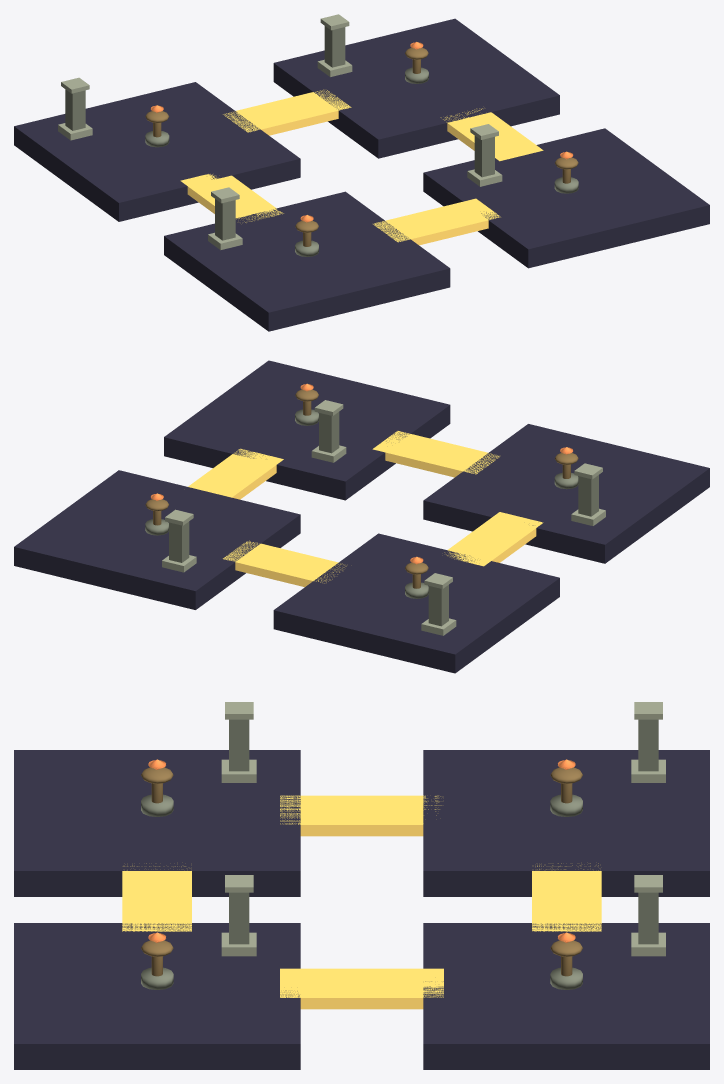
Rendered from hollow_sun_arena.glb.
The picture shows the model from 3 angles, top to bottom: view 1: azimuth 30°, elevation 25°; view 2: azimuth 150°, elevation 25°; view 3: azimuth 270°, elevation 25°; orthographic projection. The views are drawn at different scales.
Parts seen in each view (by area): view 1: floating_platform (×4), connector_x (×2), connector_z (×2), column (×4); view 2: floating_platform (×4), connector_x (×2), connector_z (×2), column (×4); view 3: floating_platform (×4), connector_z (×2), connector_x (×2), base (×8), column (×4).
Boxes of the visible parts, x1,y1,x2,y2 form: floating_platform (×4): [14, 18, 709, 331]; connector_x (×2): [223, 89, 500, 245]; connector_z (×2): [180, 108, 543, 222]; column (×4): [65, 26, 494, 240]; floating_platform (×4): [14, 360, 709, 673]; connector_x (×2): [223, 431, 499, 587]; connector_z (×2): [188, 448, 543, 566]; column (×4): [169, 412, 598, 626]; floating_platform (×4): [14, 750, 709, 1069]; connector_z (×2): [280, 795, 443, 1009]; connector_x (×2): [122, 863, 601, 931]; base (×8): [141, 759, 665, 989]; column (×4): [229, 719, 658, 944].
Bounding box in the file's own units: 17 × 2.52 × 17.
